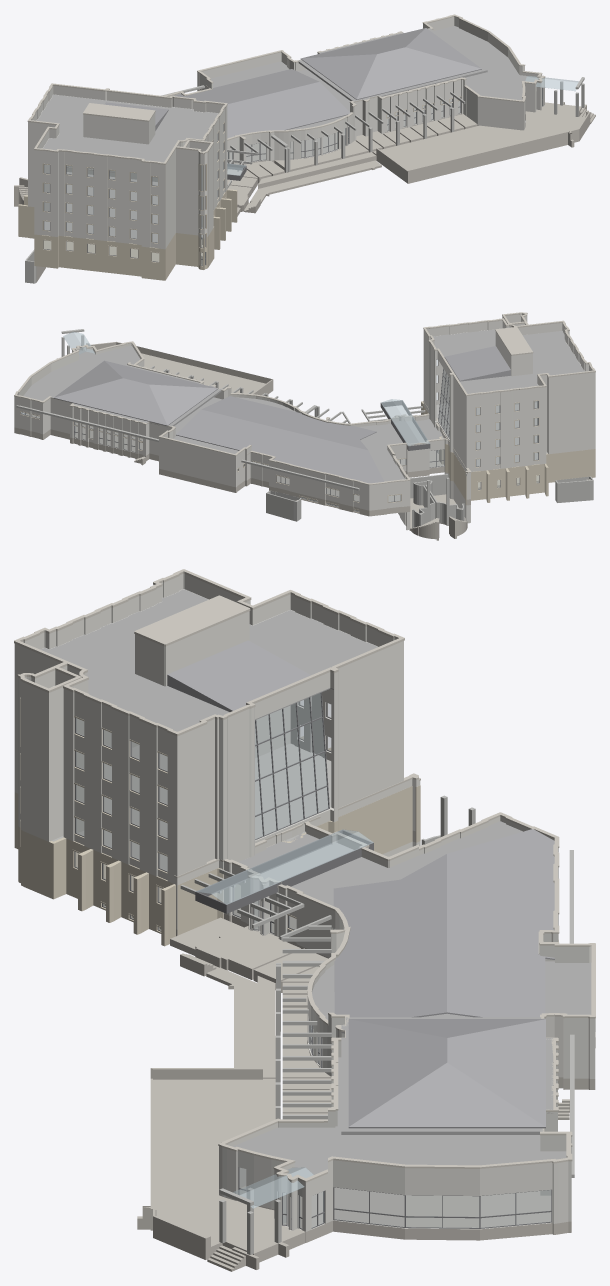
Rendered from tki_misafirhane_exterior.glb.
3 views of the same model, one above another, from view 1: azimuth 30°, elevation 25°; view 2: azimuth 150°, elevation 25°; view 3: azimuth 270°, elevation 25° (orthographic). The views are drawn at different scales.
Parts seen in each view (by area): view 1: A_WALL_UPPER, B_ROOF_HALL, TERRACE_000_00, B_ROOF_WEST, A_ROOF_SLAB_00, B_ROOF_SLAB_01, A_PARAPET, A_WALL_GF, A_PLINTH, B_WALL_H560_01, B_WALL_H460_04, B_WALL_H460_02 (+18 smaller); view 2: A_WALL_UPPER, B_ROOF_WEST, B_WALL_H560_00, B_ROOF_HALL, B_ROOF_SLAB_01, A_ROOF_SLAB_00, B_WALL_H460_01, B_PLINTH, A_PARAPET, A_WALL_GF, A_PLINTH, TERRACE_000_00 (+25 smaller); view 3: A_WALL_UPPER, B_ROOF_WEST, B_ROOF_HALL, B_ROOF_SLAB_01, TERRACE_000_00, A_ROOF_SLAB_00, A_PARAPET, B_WALL_H560_00, B_PLINTH, A_WALL_GF, A_INCLINED_CURTAIN_GLASS, A_SLAB_GF (+28 smaller).
Part boxes in pixels (box(x1,y1,x2,y2)): A_WALL_UPPER: box(28, 94, 227, 249); B_ROOF_HALL: box(300, 28, 481, 99); TERRACE_000_00: box(372, 102, 590, 183); B_ROOF_WEST: box(174, 69, 350, 138); A_ROOF_SLAB_00: box(36, 94, 218, 162); B_ROOF_SLAB_01: box(211, 26, 537, 129); A_PARAPET: box(28, 85, 227, 173); A_WALL_GF: box(18, 189, 237, 267); A_PLINTH: box(18, 209, 237, 280); B_WALL_H560_01: box(350, 79, 466, 141); B_WALL_H460_04: box(464, 72, 544, 130); B_WALL_H460_02: box(227, 114, 353, 165); A_WALL_UPPER: box(423, 330, 595, 472); B_ROOF_WEST: box(176, 396, 384, 483); B_WALL_H560_00: box(14, 352, 251, 487); B_ROOF_HALL: box(54, 360, 218, 425); B_ROOF_SLAB_01: box(23, 346, 442, 481); A_ROOF_SLAB_00: box(433, 329, 584, 393); B_WALL_H460_01: box(250, 453, 410, 510); B_PLINTH: box(14, 413, 470, 516); A_PARAPET: box(423, 314, 595, 403); A_WALL_GF: box(421, 401, 595, 493); A_PLINTH: box(439, 455, 595, 504); TERRACE_000_00: box(141, 353, 273, 395); A_WALL_UPPER: box(14, 589, 403, 883); B_ROOF_WEST: box(333, 829, 554, 1017); B_ROOF_HALL: box(348, 1019, 545, 1128); B_ROOF_SLAB_01: box(233, 821, 591, 1177); TERRACE_000_00: box(137, 1078, 305, 1262); A_ROOF_SLAB_00: box(40, 589, 377, 731); A_PARAPET: box(14, 573, 403, 751); B_WALL_H560_00: box(328, 945, 595, 1229); B_PLINTH: box(176, 830, 595, 1242); A_WALL_GF: box(14, 736, 420, 923); A_INCLINED_CURTAIN_GLASS: box(255, 693, 328, 839); A_SLAB_GF: box(51, 743, 331, 870).
Size of the model in its own units: 96.08 by 24.25 by 47.42.
